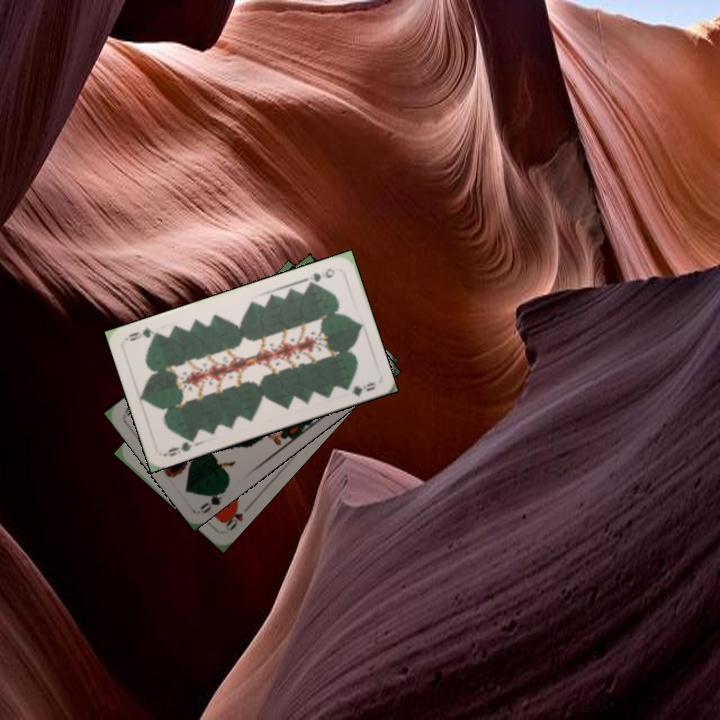G9: (160, 433, 198, 459), (303, 264, 337, 288)
GO: (196, 483, 230, 516)
HO: (220, 500, 253, 534)
